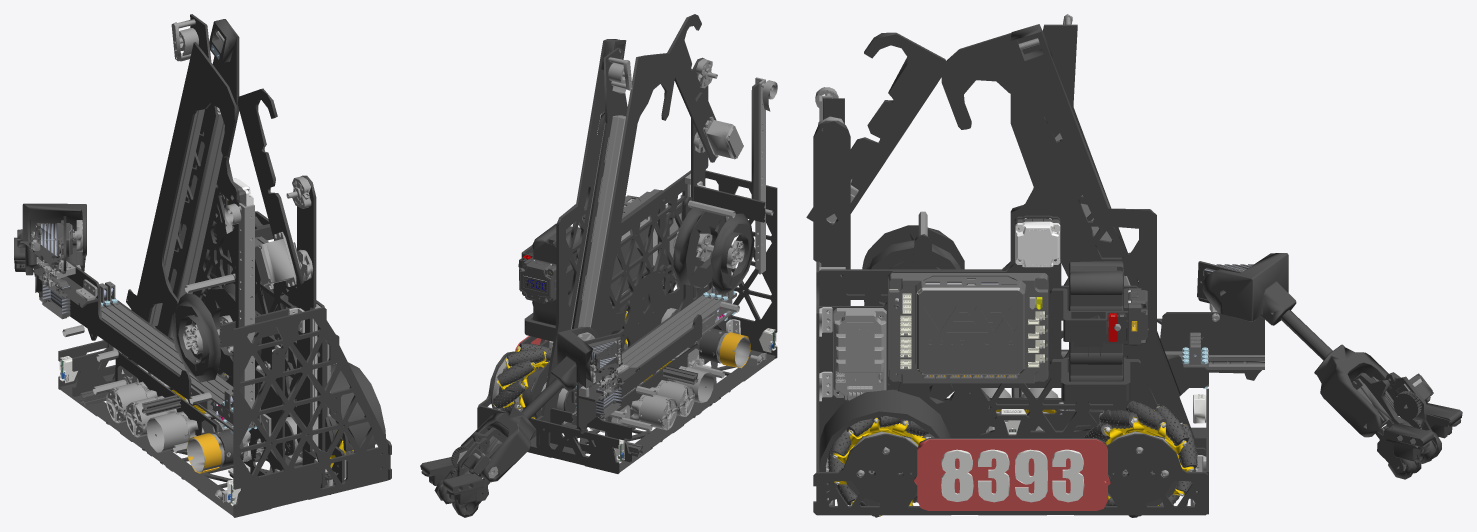
Rendered from ftc-into-the-deep-section.glb.
3 renders of one model, left to right at view 1: azimuth 30°, elevation 25°; view 2: azimuth 150°, elevation 25°; view 3: azimuth 270°, elevation 25°, orthographic. The views are drawn at different scales.
Parts seen in each view (by area): view 1: Back Panel - Inner - 0.1in EGL:1; view 2: Back Panel - Inner - 0.1in EGL:1; view 3: Back Panel - Inner - 0.1in EGL:1.
Boxes of the visible parts, x1=… form: Back Panel - Inner - 0.1in EGL:1: x1=14, y1=14, x2=391, y2=517; Back Panel - Inner - 0.1in EGL:1: x1=420, y1=14, x2=777, y2=517; Back Panel - Inner - 0.1in EGL:1: x1=806, y1=14, x2=1462, y2=517.
Size of the model in its own units: 0.1855 by 0.4537 by 0.5858.
1 material, 1 textured.
